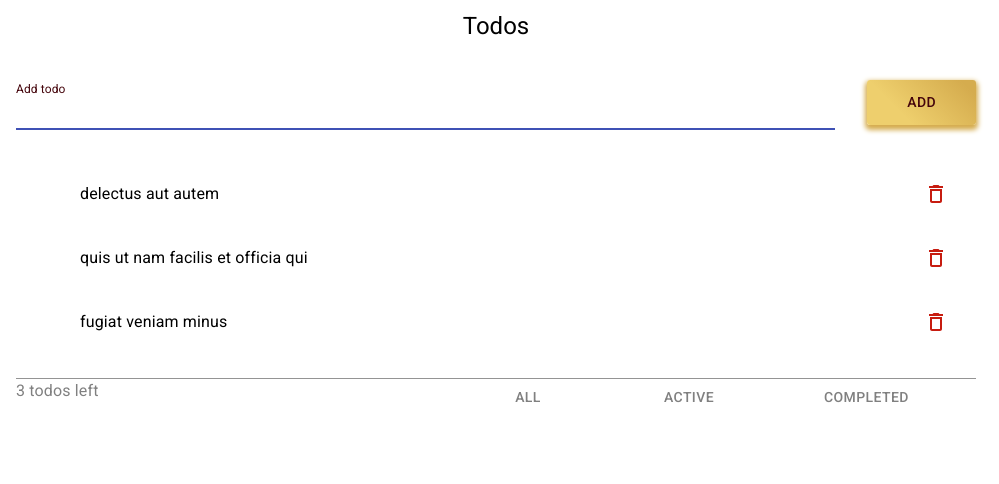
Test: Todos component › should allow adding new todos
Type "Learn React" into the field labelled "Add todo".
click(426, 114); type("Learn React")  # box left=16, top=98, right=835, bottom=130
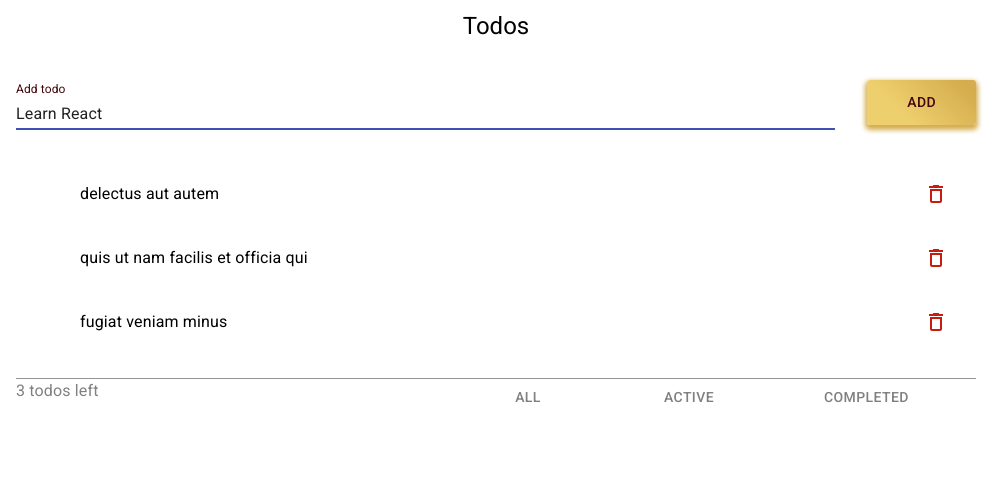
Submit the form from the button with test id "add-button", box left=867, top=80, right=976, bottom=125
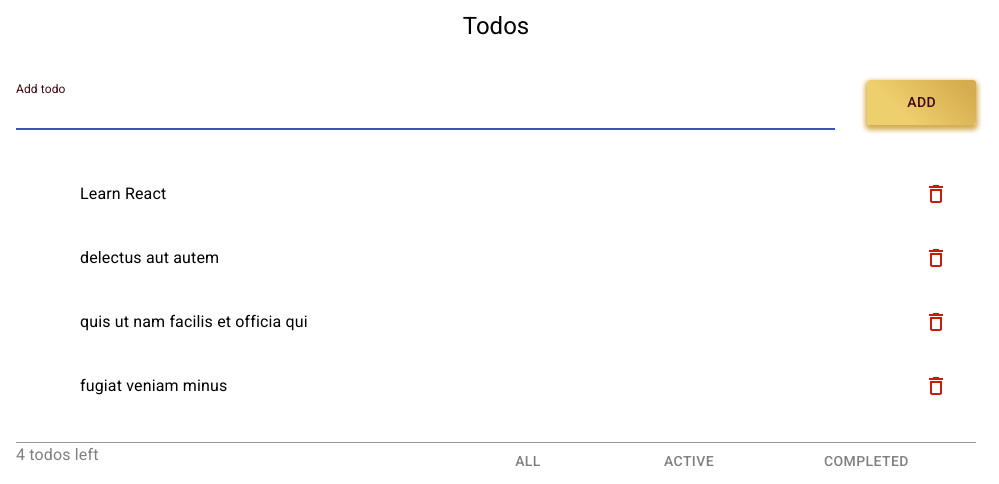
Expected: the field labelled "Add todo" is empty, left=16, top=98, right=835, bottom=130
Expected: the text with test id "todo-learn-react" reads "Learn React", left=80, top=184, right=166, bottom=203
